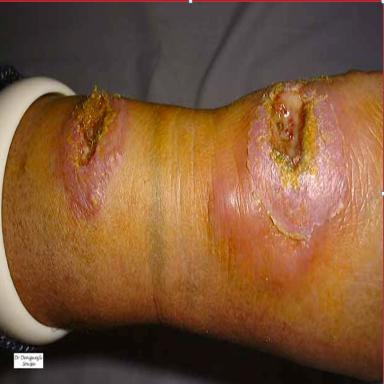Leishmanios: (247, 78, 349, 239), (61, 87, 125, 217)
